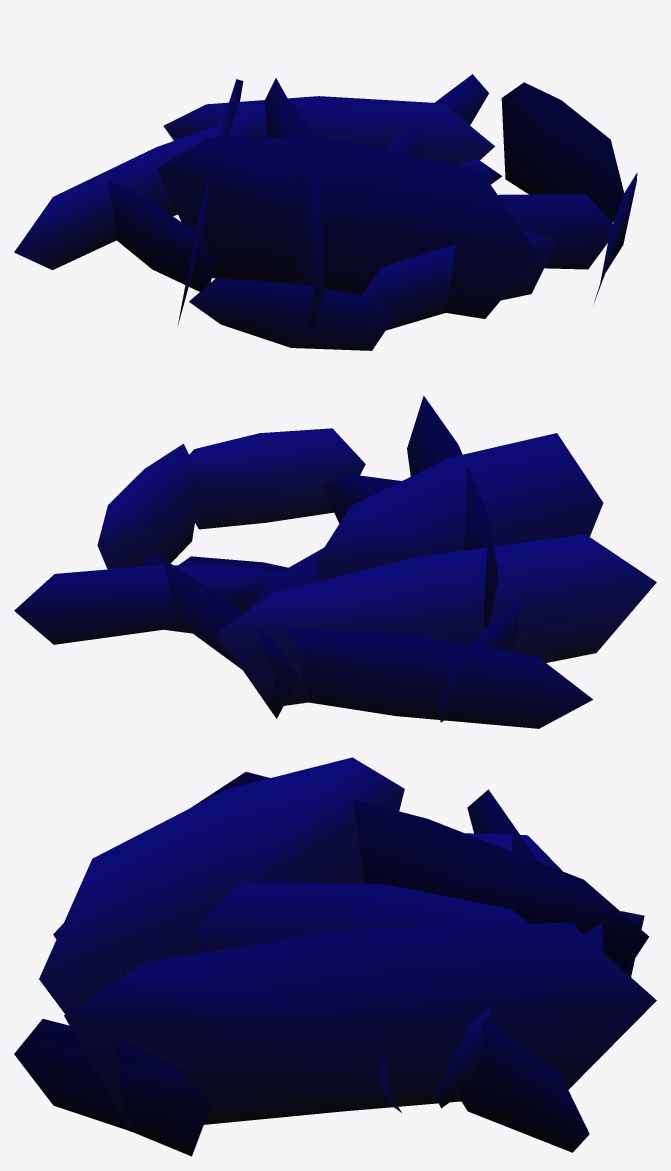
File: SM_Grass_XS_Patch_M_02.fbx
3 views of the same model, one above another, from view 1: azimuth 30°, elevation 25°; view 2: azimuth 150°, elevation 25°; view 3: azimuth 270°, elevation 25° (orthographic). The views are drawn at different scales.
Visible parts, largest first — view 1: SM_Grass_XS_Patch_M_02; view 2: SM_Grass_XS_Patch_M_02; view 3: SM_Grass_XS_Patch_M_02.
Part boxes in pixels (box(x1,y1,x2,y2)): SM_Grass_XS_Patch_M_02: box(14, 74, 637, 350); SM_Grass_XS_Patch_M_02: box(14, 395, 656, 728); SM_Grass_XS_Patch_M_02: box(14, 757, 656, 1156).
Size of the model in its own units: 91.48 by 77.42 by 28.49.
